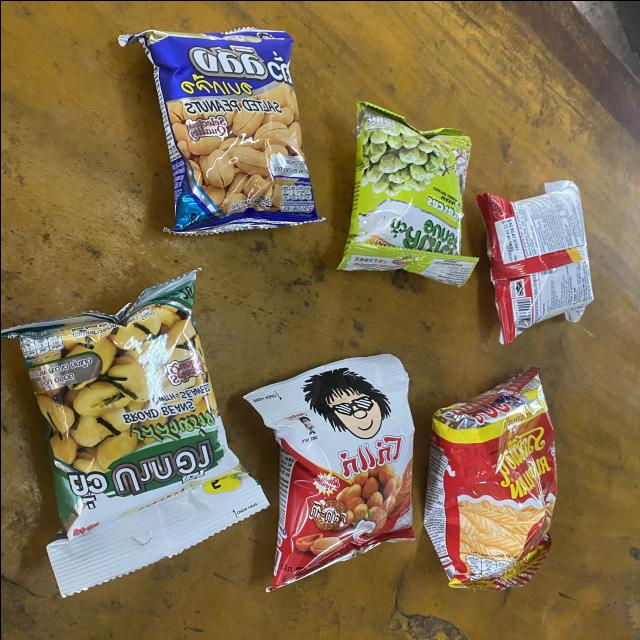plastik: (0, 272, 267, 594), (118, 27, 320, 232), (244, 353, 413, 590), (423, 367, 555, 589), (338, 101, 477, 285), (477, 180, 592, 341)
